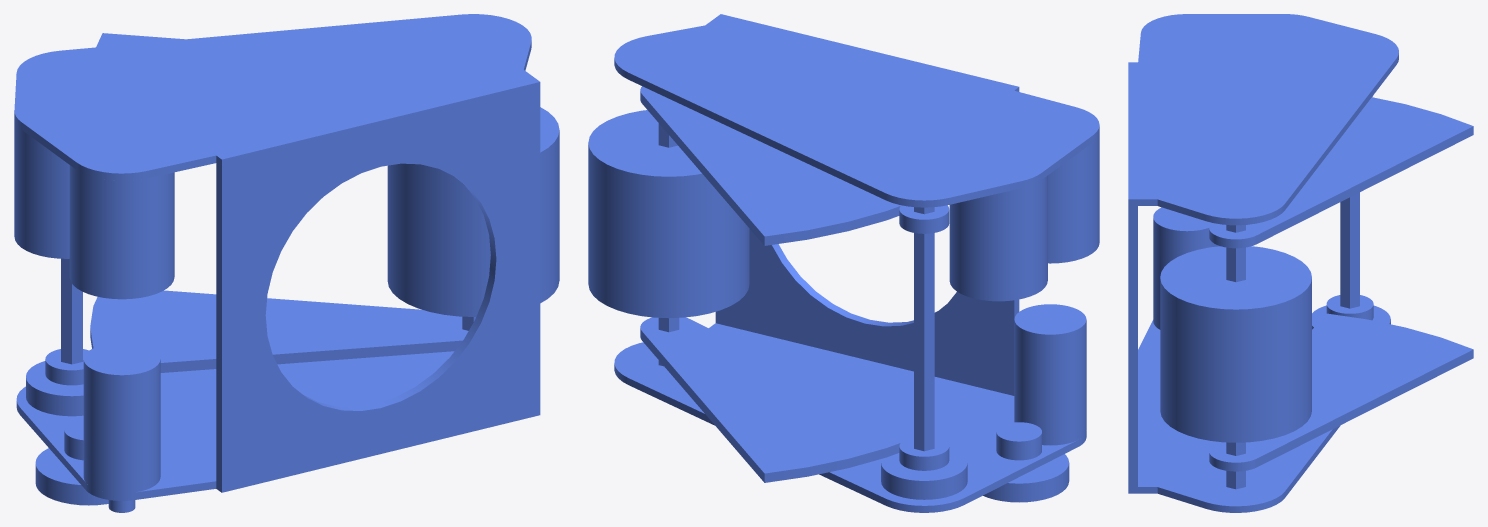
3 renders of one model, left to right at view 1: azimuth 30°, elevation 25°; view 2: azimuth 150°, elevation 25°; view 3: azimuth 270°, elevation 25°, orthographic. The views are drawn at different scales.
Parts seen in each view (by area): view 1: NAUO1; view 2: NAUO1; view 3: NAUO1.
Part boxes in pixels (bbox=[...]): NAUO1: bbox=[14, 14, 559, 512]; NAUO1: bbox=[588, 14, 1099, 512]; NAUO1: bbox=[1128, 14, 1473, 512].
Bounding box in the file's own units: 0.3302 × 0.2247 × 0.2238.
